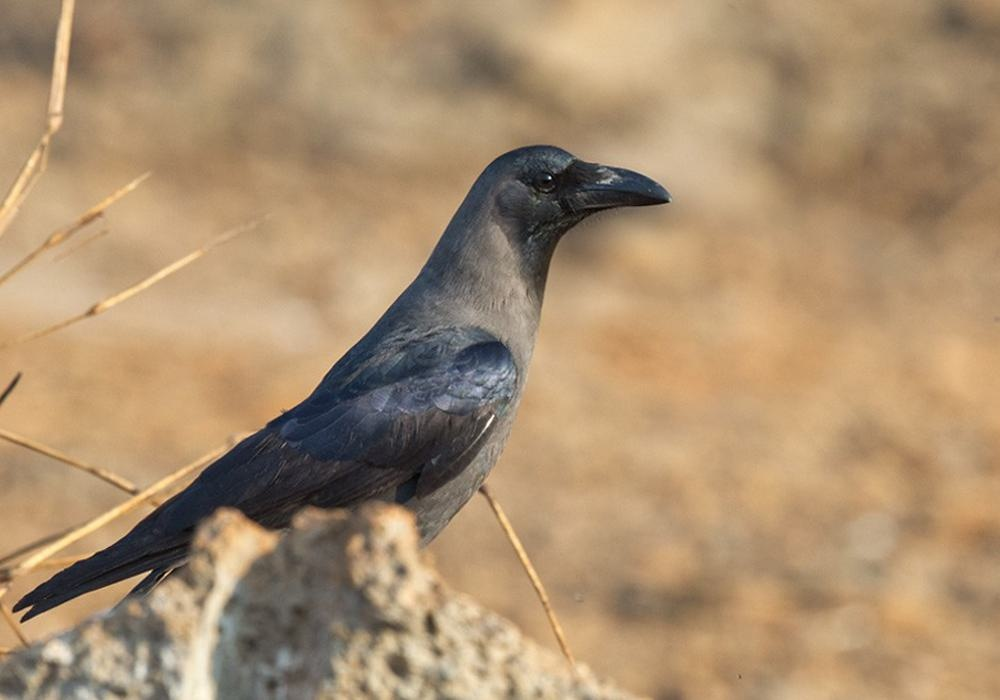crow: (43, 120, 687, 640)
